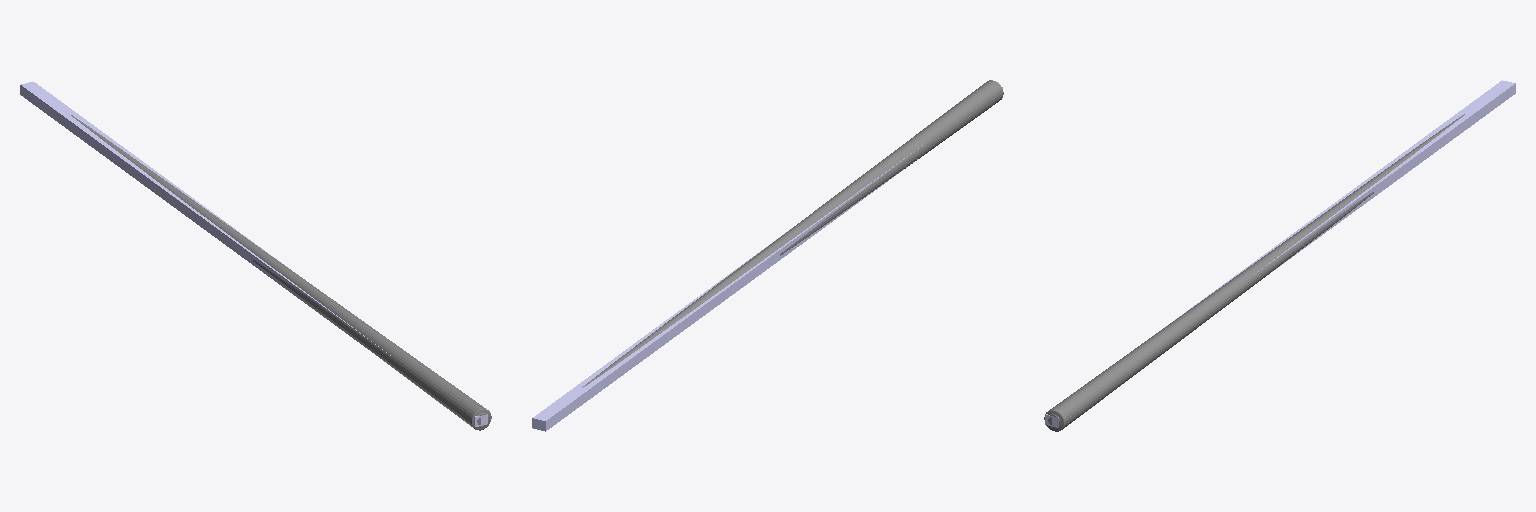
URDF robot description (queue):
<?xml version="1.0"?>
<robot name="queue">
    <link name="robot_base">
        <inertial>
            <origin rpy="-1.570771 3.141593 -3.141593" xyz="0.275000 0.000000 0.755000" />
            <inertia iyy="0.0010572118600667" iyz="1.5656470670435e-11" ixx="0.00078661598519292" izz="3.3149268293965e-07" ixz="-5.8811612722704e-12" ixy="-3.9376787719559e-14" />
            <mass value="0.067200005054474" />
        </inertial>
        <collision name="queue">
            <origin xyz="0.275000 0.000000 0.755000" rpy="-1.570771 3.141593 -3.141593" />
            <geometry>
                <box size="0.006307 0.004693 0.374760" />
            </geometry>
        </collision>
        <visual name="queue">
            <origin xyz="0.275000 0.000000 0.755000" rpy="-1.570771 3.141593 -3.141593" />
            <geometry>
                <box size="0.006307 0.004693 0.374760" />
            </geometry>
            <material name="robot_base_material">
                <color rgba="0.850000 0.850000 1.000000 1.0" />
            </material>
        </visual>
        <visual name="queue_visual">
            <origin xyz="0.274000 -0.000005 0.754956" rpy="-1.570769 3.141593 -3.132866" />
            <geometry>
                <mesh filename="queue_queue_visual_vis_1.dae" />
            </geometry>
            <material name="queue_visual_material">
                <color rgba="0.588200 0.588200 0.588200 1.0" />
            </material>
        </visual>
    </link>
</robot>

--- Facts derived from the render (not from the file) ---
The picture shows the robot from 3 angles, left to right: view 1: azimuth 30°, elevation 25°; view 2: azimuth 150°, elevation 25°; view 3: azimuth 330°, elevation 25°; orthographic projection.
Model queue with 1 links and 0 joints (none), rooted at robot_base, posed every joint at zero.
Links seen in each view (by area): view 1: robot_base; view 2: robot_base; view 3: robot_base.
Link boxes in pixels (<box>): robot_base: <box>20,82,491,430</box>; robot_base: <box>532,80,1003,431</box>; robot_base: <box>1044,80,1515,431</box>.
Size in the robot's own frame: 0.0095 by 0.3748 by 0.0096 metres.
Meshes: 1 distinct files referenced, 1 mesh visuals loaded (1 Collada DAE).
